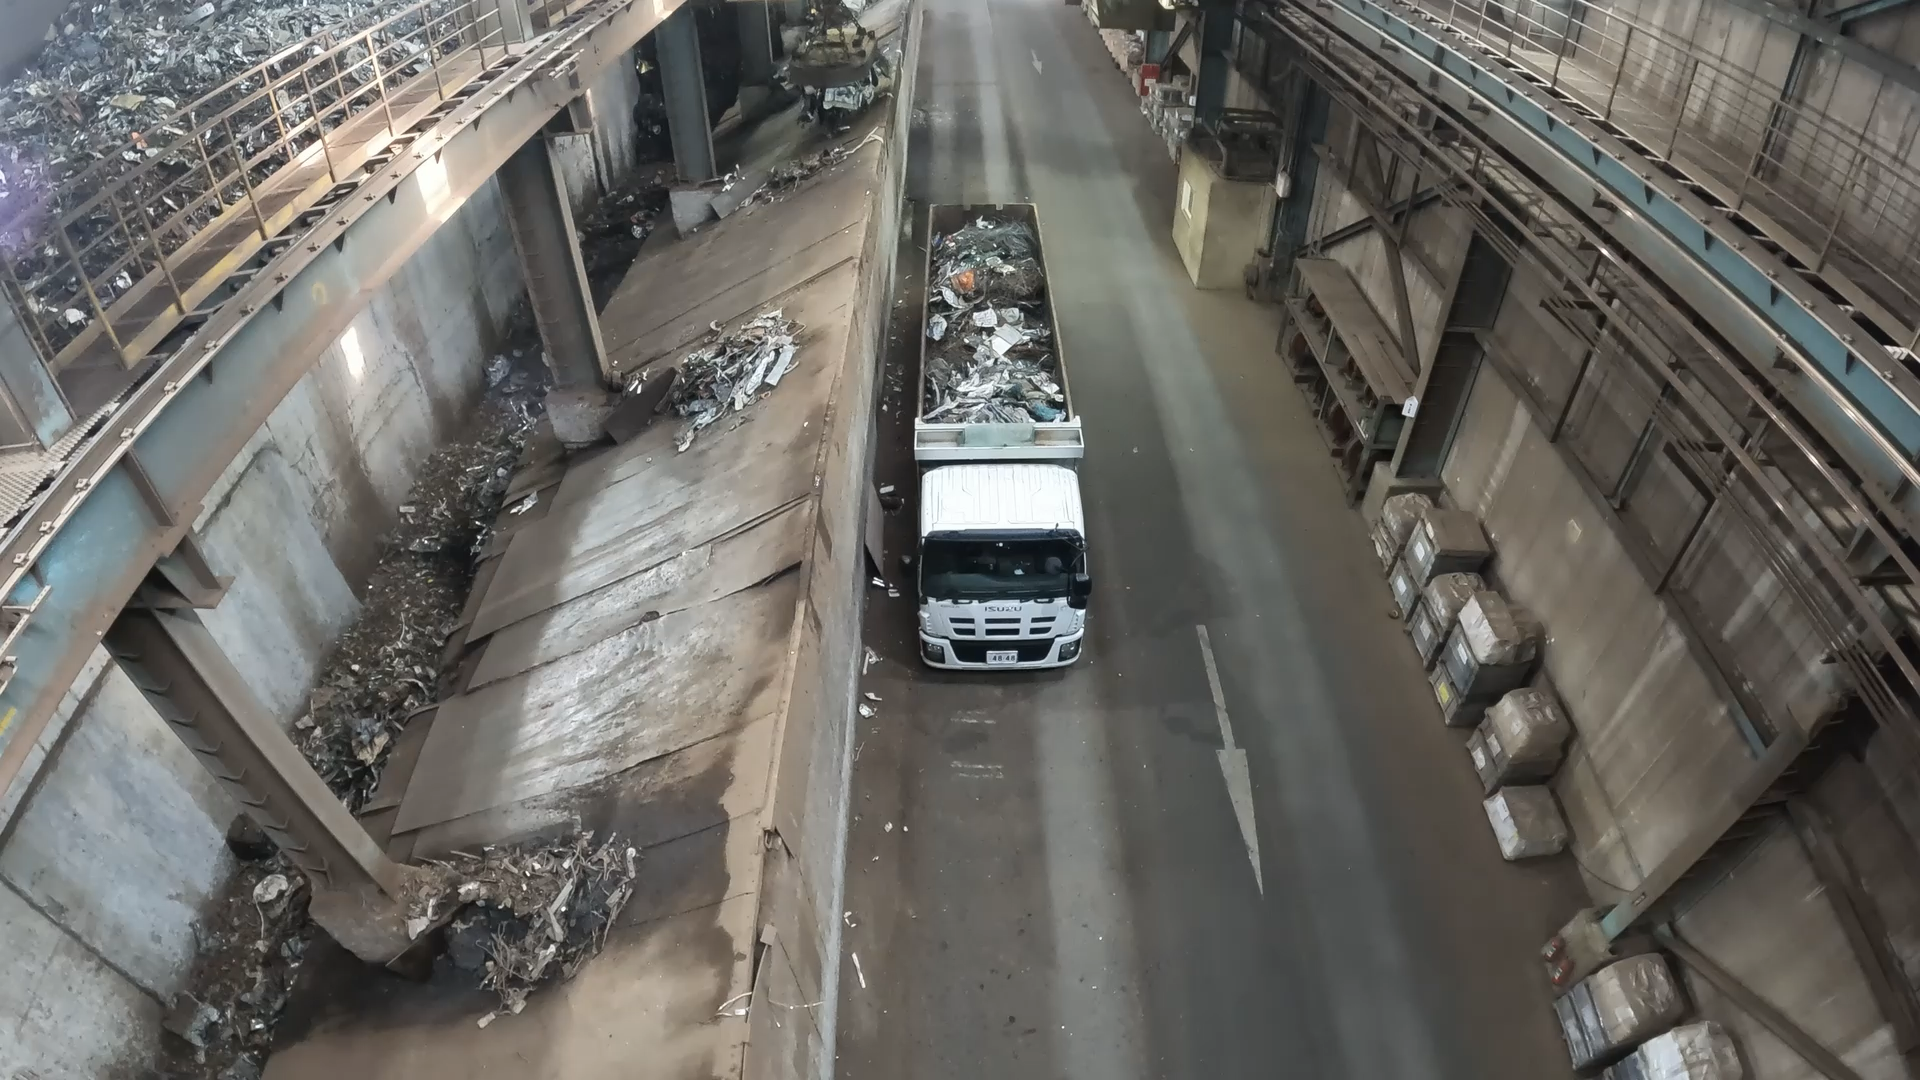truck: (916, 203, 1071, 427)
